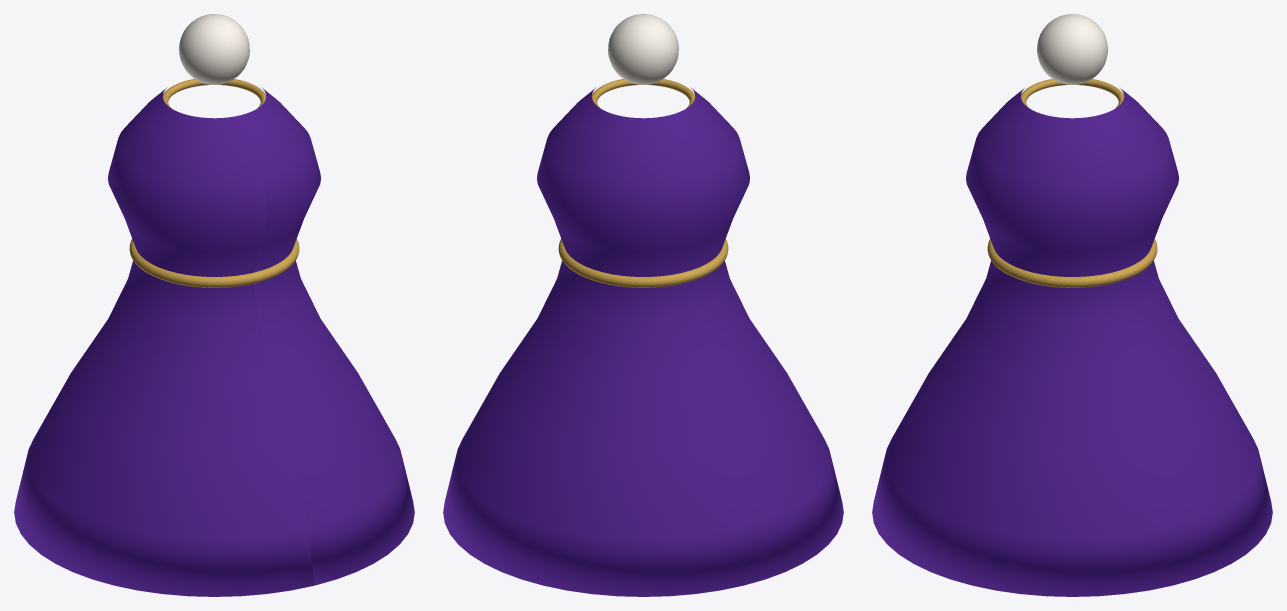
The model's file is demo-gown.glb.
The picture shows the model from 3 angles, left to right: view 1: azimuth 30°, elevation 25°; view 2: azimuth 150°, elevation 25°; view 3: azimuth 270°, elevation 25°; orthographic projection.
Visible parts, largest first — view 1: GownBody, HeadForm, WaistTrim, NecklineTrim; view 2: GownBody, HeadForm, WaistTrim, NecklineTrim; view 3: GownBody, HeadForm, WaistTrim, NecklineTrim.
Boxes of the visible parts, box(x1,y1,x2,y2) form: GownBody: box(14, 88, 414, 596); HeadForm: box(179, 14, 249, 84); WaistTrim: box(129, 239, 299, 287); NecklineTrim: box(162, 79, 266, 108); GownBody: box(443, 88, 843, 596); HeadForm: box(608, 14, 678, 84); WaistTrim: box(558, 239, 728, 287); NecklineTrim: box(591, 79, 695, 108); GownBody: box(872, 88, 1272, 596); HeadForm: box(1037, 14, 1107, 84); WaistTrim: box(987, 239, 1157, 287); NecklineTrim: box(1020, 79, 1124, 108).
Size of the model in its own units: 1.24 by 1.75 by 1.24.
